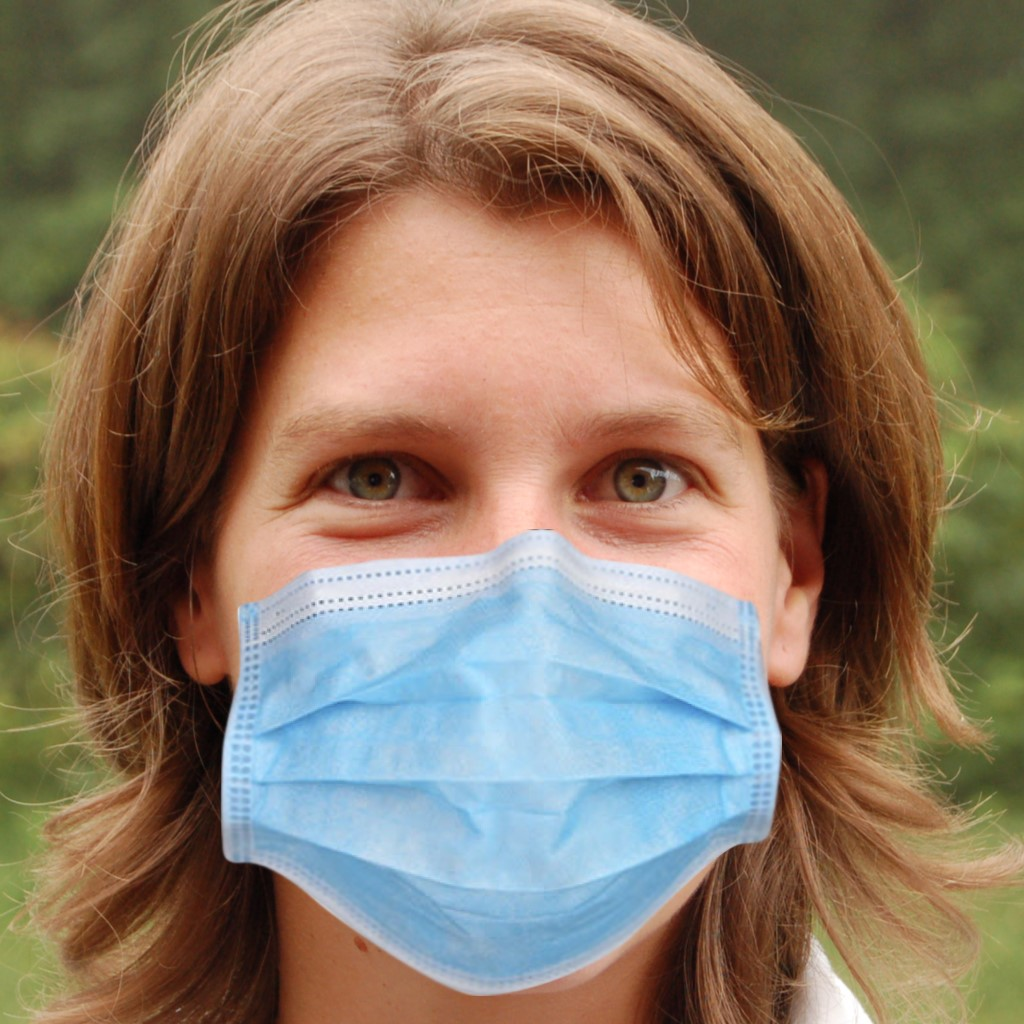con_mascara: (204, 108, 813, 969)
